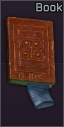Battered antique book: (0, 0, 64, 127)
